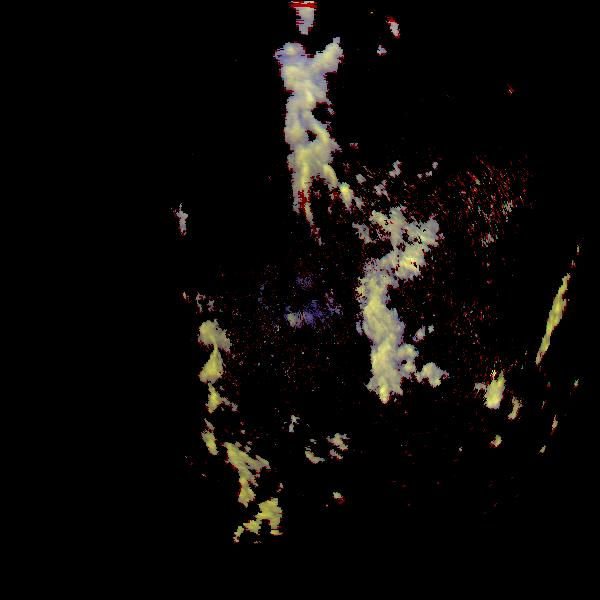roost: (286, 414, 298, 426), (283, 425, 295, 437)
